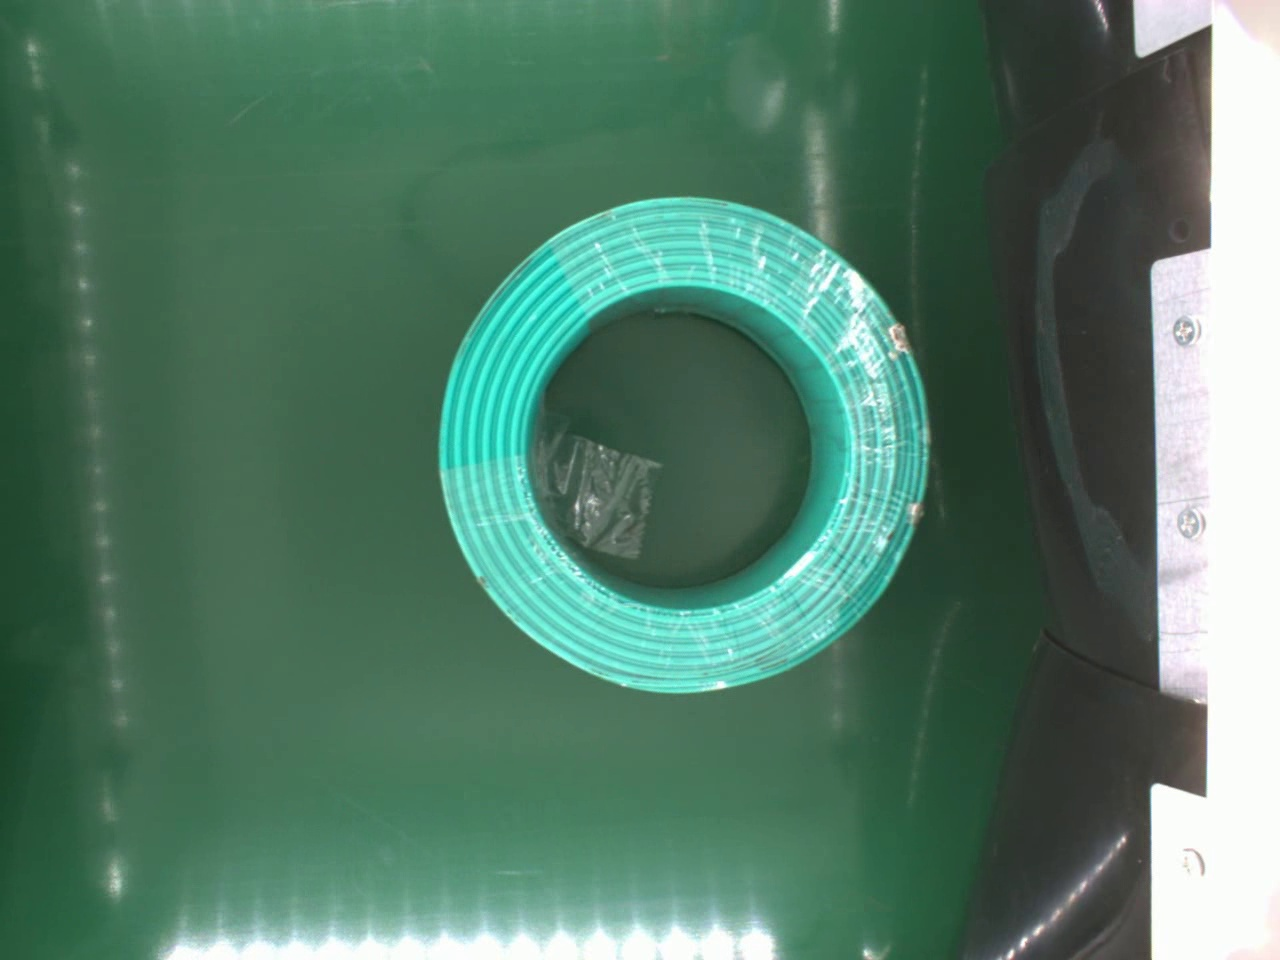green: (429, 194, 932, 703)
